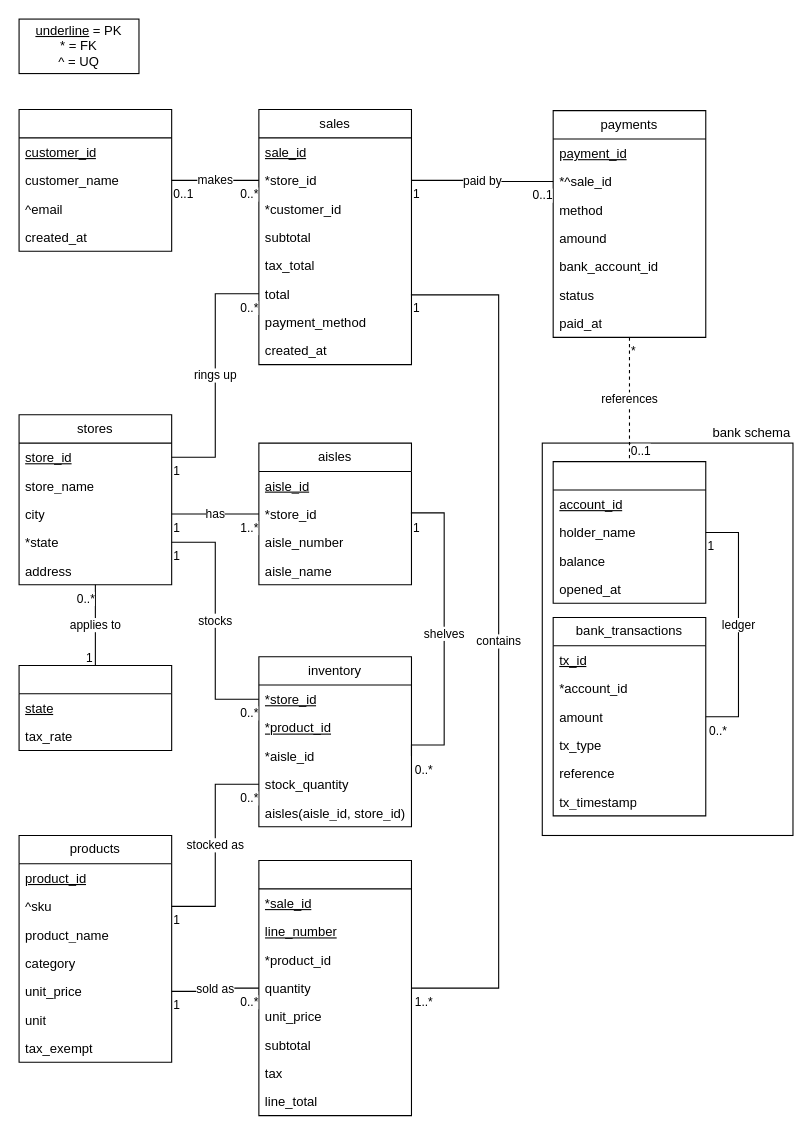
Some shapes in this 812 by 1138 pixel diagram are drawn without their labels. Here are the shapes that lost their labels. From the top down, the box of each, then its label:
(18, 108, 172, 251): customers
(552, 461, 706, 603): bank_accounts
(18, 664, 172, 750): tax_rules
(258, 859, 411, 1116): sales_items
